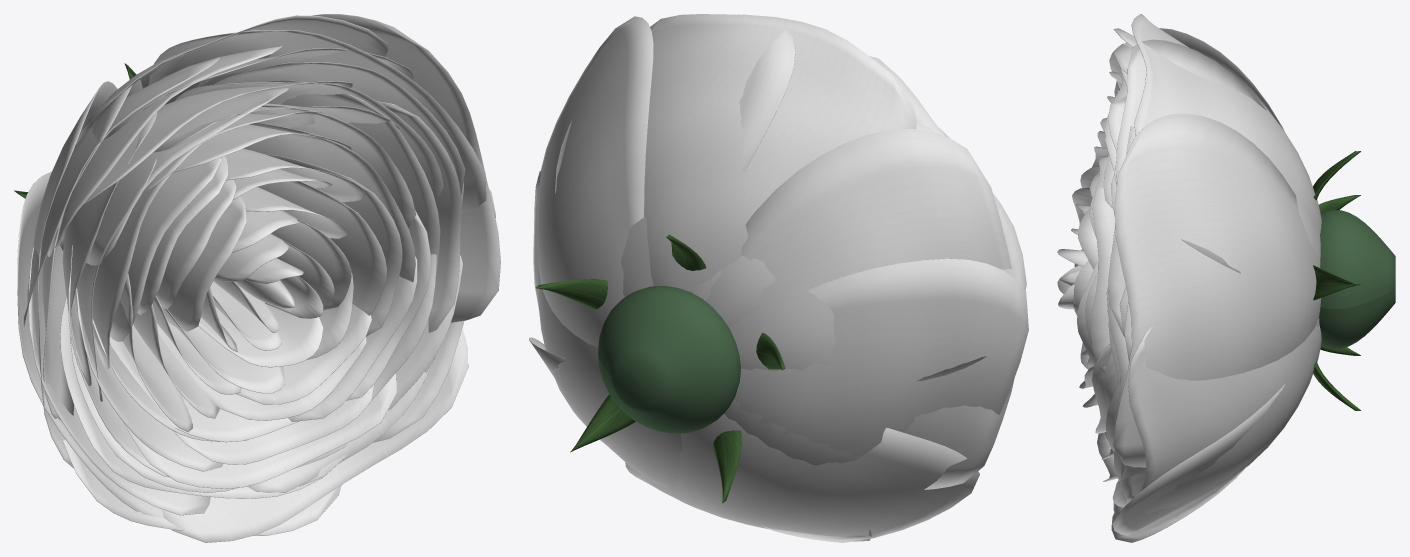
Rendered from rose-4-balanced.glb.
3 views of the same model, side by side, from view 1: azimuth 30°, elevation 25°; view 2: azimuth 150°, elevation 25°; view 3: azimuth 270°, elevation 25° (orthographic). The views are drawn at different scales.
Visible parts, largest first — view 1: Rose_4_balanced_Petals; view 2: Rose_4_balanced_Petals, Rose_4_balanced_Receptacle, Rose_4_balanced_Sepals; view 3: Rose_4_balanced_Petals, Rose_4_balanced_Receptacle, Rose_4_balanced_Sepals.
Boxes of the visible parts, x1,y1,x2,y2 form: Rose_4_balanced_Petals: (17, 14, 500, 542); Rose_4_balanced_Petals: (529, 14, 1028, 542); Rose_4_balanced_Receptacle: (598, 286, 740, 433); Rose_4_balanced_Sepals: (535, 234, 785, 503); Rose_4_balanced_Petals: (1057, 14, 1321, 542); Rose_4_balanced_Receptacle: (1319, 209, 1395, 349); Rose_4_balanced_Sepals: (1313, 151, 1360, 410).
Bounding box in the file's own units: 0.7826 × 0.789 × 0.5084.
3 materials, 2 textured.
